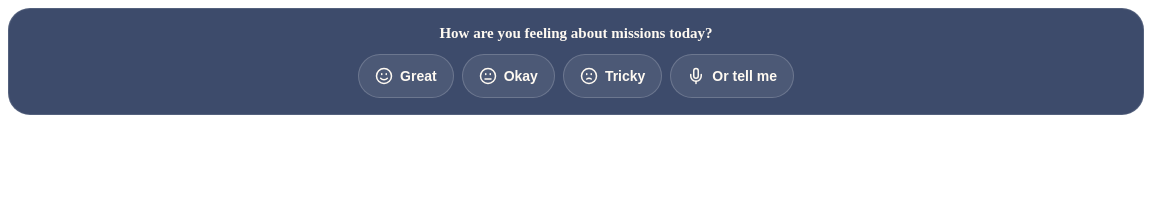
Test case: TwinCheckIn › isn't fooled by a negated positive like 'not fun' into cheering it as great
The image size is (1152, 218).
Step 1. Click the button "Or tell me" → (732, 76), box [670,54,794,98]
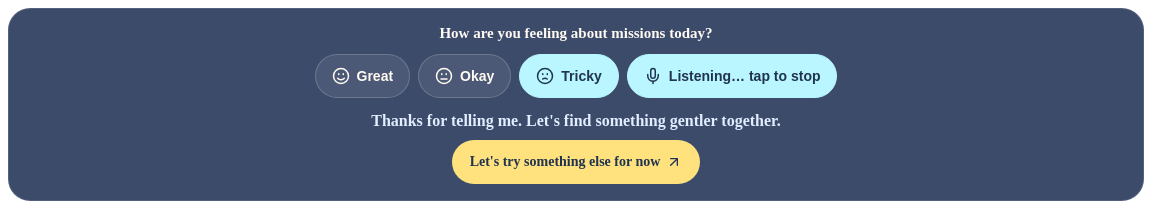
Expected: the message shows "gentler together", [371,112,781,129]
